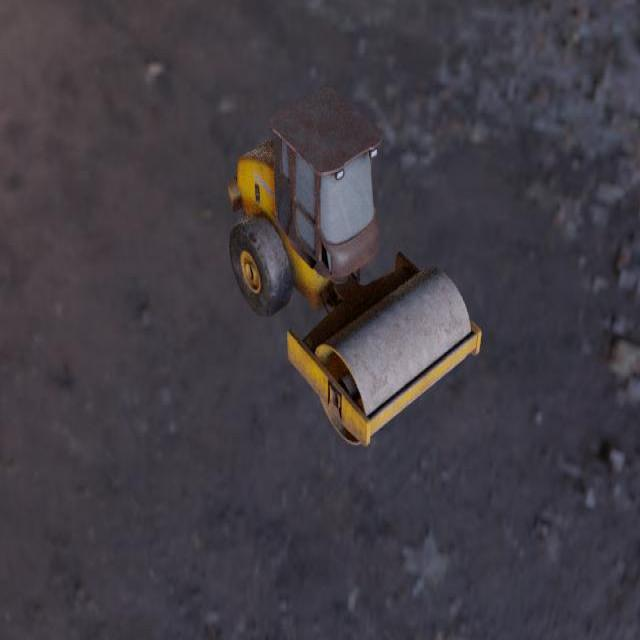Roller: (227, 85, 481, 447)
